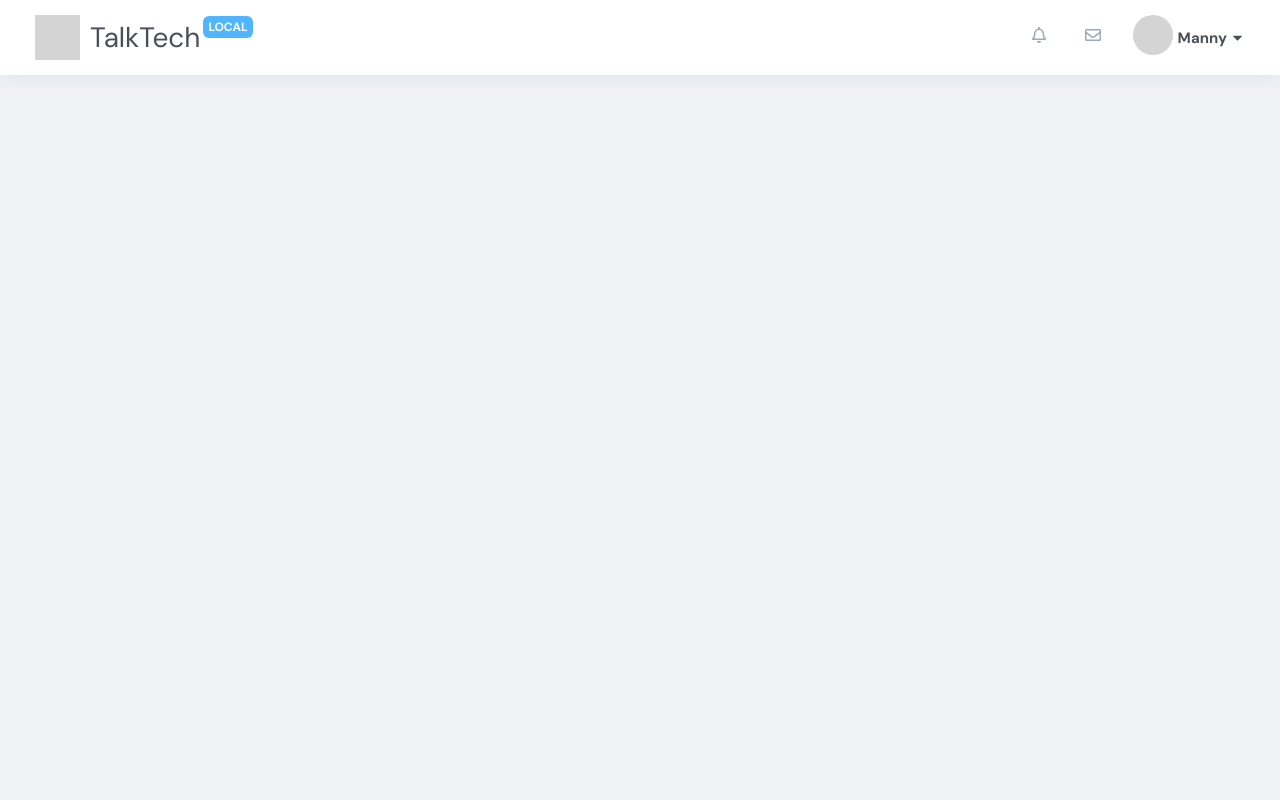
Test: Header › body › should display message sidebar
Click the list item with test id "message-list-item".
click(1095, 38)  # box [1068,27,1123,48]
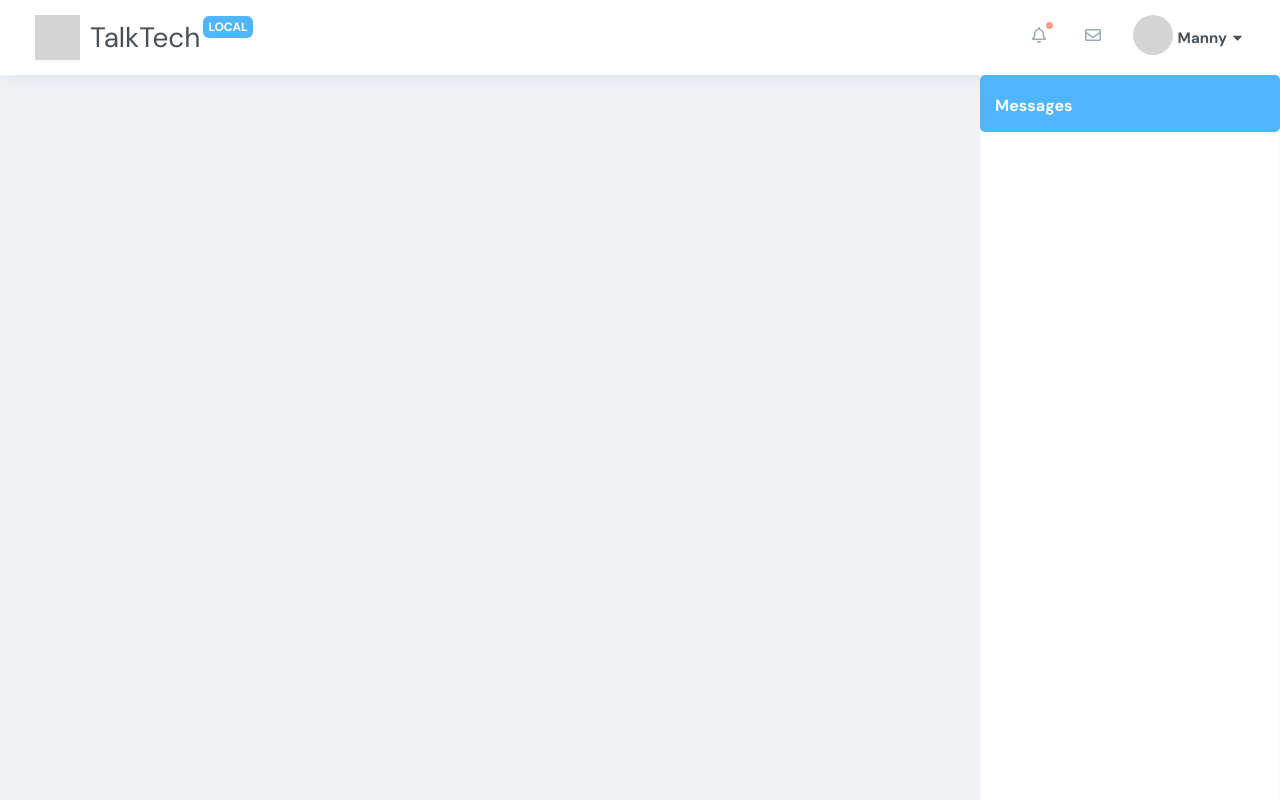
Now the element with test id "message-sidebar" is shown, box [980,75,1279,150]
Now the heading "Messages" is shown, box [995,95,1073,116]
